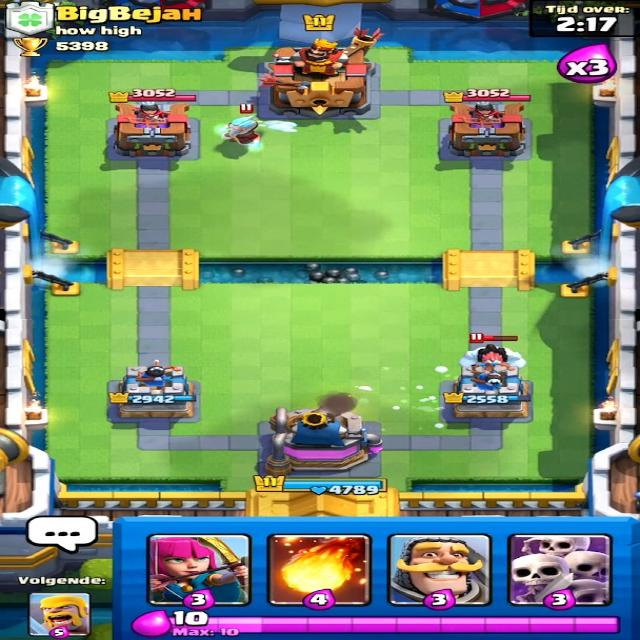Enemy_Ice_Golem_Troop: (454, 342, 536, 373)
Enemy_Ice_Wizard_Troop: (214, 115, 271, 154)
Fireball_Card: (260, 532, 375, 608)
